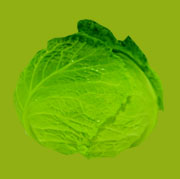cabbage: (16, 19, 165, 159)
